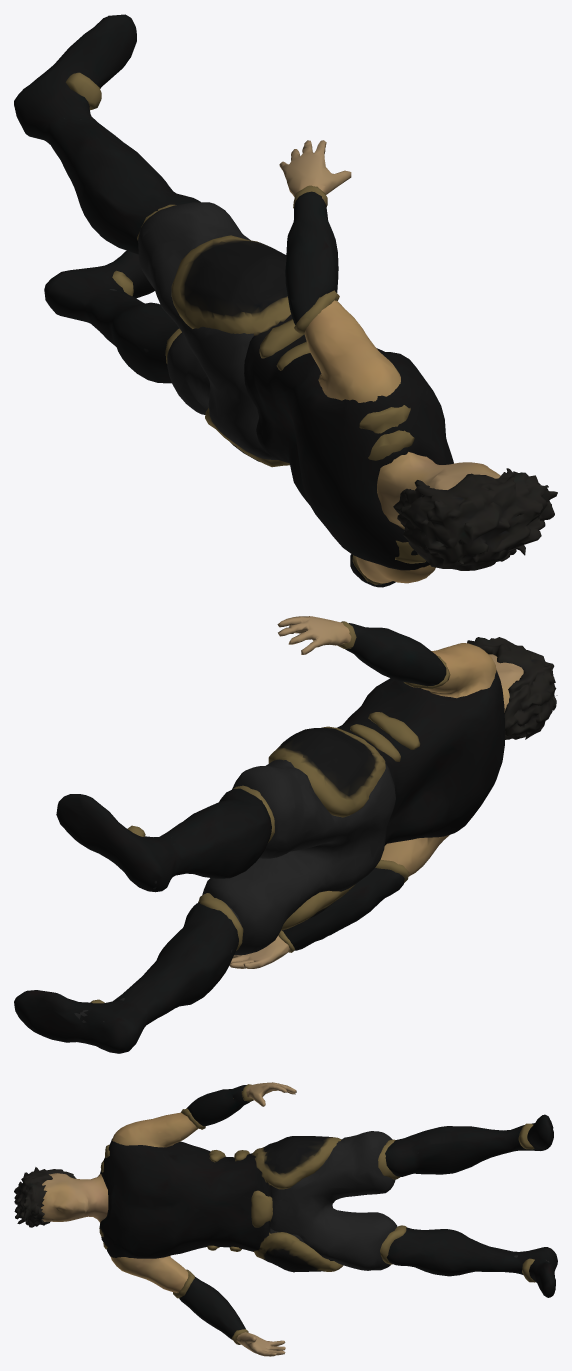
File: Tan OBJ 10.obj
The picture shows the model from 3 angles, top to bottom: view 1: azimuth 30°, elevation 25°; view 2: azimuth 150°, elevation 25°; view 3: azimuth 270°, elevation 25°; orthographic projection. The views are drawn at different scales.
Visible parts, largest first — view 1: Armour, Pants, Skin, Hair, Gold; view 2: Armour, Pants, Skin, Hair, Gold; view 3: Armour, Pants, Skin, Gold, Hair.
Part boxes in pixels (x1,y1,x2,y2): Armour: [14, 14, 453, 587]; Pants: [138, 202, 277, 459]; Skin: [64, 118, 500, 583]; Hair: [393, 468, 557, 570]; Gold: [65, 72, 425, 584]; Armour: [14, 623, 504, 1053]; Pants: [202, 759, 395, 955]; Skin: [74, 616, 523, 1022]; Hair: [467, 637, 557, 739]; Gold: [90, 621, 501, 1003]; Armour: [99, 1085, 557, 1339]; Pants: [270, 1131, 397, 1270]; Skin: [41, 1082, 549, 1356]; Gold: [99, 1084, 535, 1344]; Hair: [14, 1167, 76, 1227].
Size of the model in its own units: 45.93 by 85.9 by 170.
